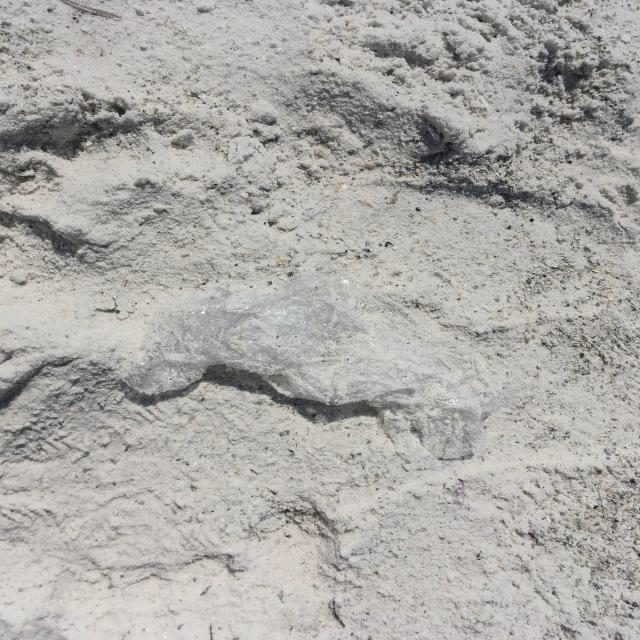litter: (363, 103, 627, 385)
